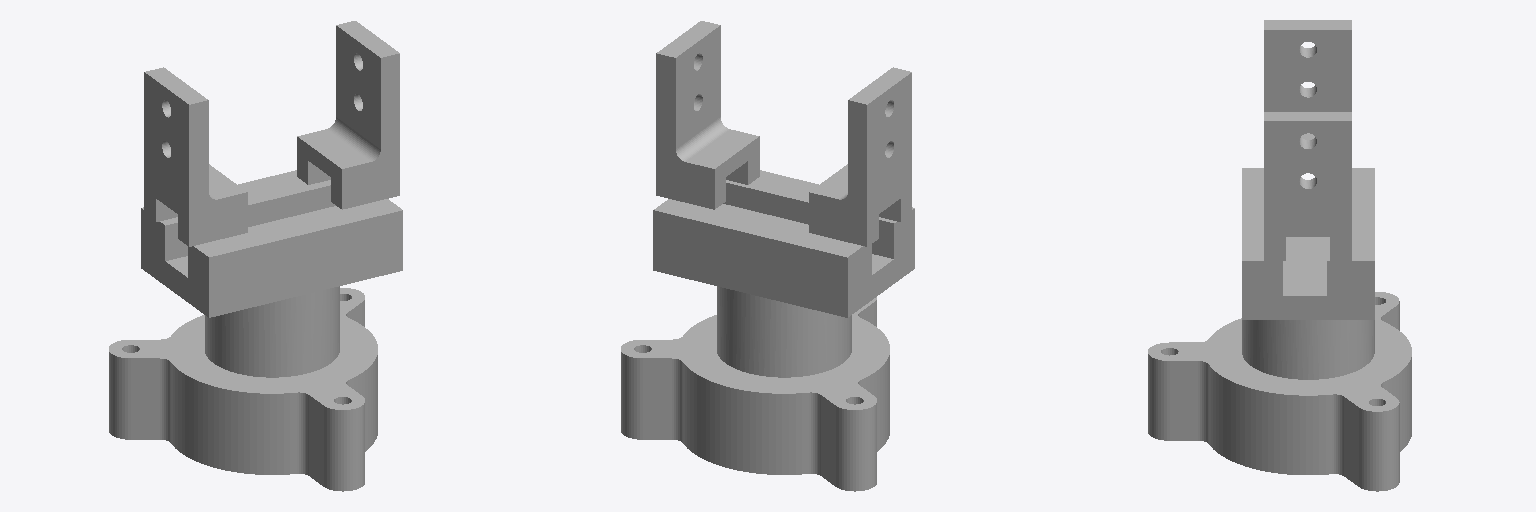
robot.urdf — abby_gripper:
<?xml version="1.0" ?>
<!-- =================================================================================== -->
<!-- |    This document was autogenerated by xacro from gripper.xacro                  | -->
<!-- |    EDITING THIS FILE BY HAND IS NOT RECOMMENDED                                 | -->
<!-- =================================================================================== -->
<robot name="abby_gripper" xmlns:xacro="http://ros.org/wiki/xacro">
  <link name="gripper_body">
    <visual>
      <geometry>
        <mesh filename="package://abby_description/meshes/gripper_body.stl" scale="0.0254 0.0254 0.0254"/>
      </geometry>
      <origin rpy="3.141592653 0 0" xyz="0 0 0.017"/>
      <material name="gripper:21_color">
        <color rgba="0.752941 0.752941 0.752941 1"/>
      </material>
    </visual>
    <inertial>
      <mass value="0.222800943405"/>
      <inertia ixx="0.000113884956016" ixy="0.0" ixz="0.0" iyy="0.000132512764251" iyz="-4.2661207134e-07" izz="9.078477651e-05"/>
      <origin rpy="3.141592653 0 0" xyz="0 0 0.013255"/>
    </inertial>
    <collision>
      <geometry>
        <box size="0.08 0.08 0.13"/>
        <!--cylinder radius="0.04" length="0.13" /-->
        <!--mesh filename="package://abby_description/meshes/gripper_body.stl" scale="0.0254 0.0254 0.0254"/-->
      </geometry>
      <origin rpy="0 0 0" xyz="0 0 0.065"/>
      <!--origin rpy="3.141592653 0 0" xyz="0 0 0.017"/-->
    </collision>
  </link>
  <link name="gripper_jaw_1">
    <visual>
      <geometry>
        <mesh filename="package://abby_description/meshes/gripper_jaw.stl" scale="0.0254 0.0254 0.0254"/>
      </geometry>
      <origin rpy="1.570796327 0 0" xyz="0 0.0127 0"/>
      <material name="gripper jaw:11_color">
        <color rgba="0.752941 0.752941 0.752941 1"/>
      </material>
    </visual>
    <inertial>
      <mass value="0.00921754126924"/>
      <inertia ixx="2.06132039615e-06" ixy="3.0409666492e-07" ixz="0.0" iyy="8.2195587923e-07" iyz="0.0" izz="1.7163745324e-06"/>
      <origin rpy="0 0 0" xyz="0.006162341 0.03123184 0.0127004023"/>
    </inertial>
    <collision>
      <geometry>
        <mesh filename="package://abby_description/meshes/gripper_jaw.stl" scale="0.0254 0.0254 0.0254"/>
      </geometry>
      <origin rpy="1.570796327 0 0" xyz="0 0.0127 0"/>
    </collision>
  </link>
  <link name="gripper_jaw_2">
    <visual>
      <geometry>
        <mesh filename="package://abby_description/meshes/gripper_jaw.stl" scale="0.0254 0.0254 0.0254"/>
      </geometry>
      <origin rpy="1.570796327 0 0" xyz="0 0.0127 0"/>
      <material name="gripper jaw:11_color">
        <color rgba="0.752941 0.752941 0.752941 1"/>
      </material>
    </visual>
    <inertial>
      <mass value="0.00921754126924"/>
      <inertia ixx="2.06132039615e-06" ixy="3.0409666492e-07" ixz="0.0" iyy="8.2195587923e-07" iyz="0.0" izz="1.7163745324e-06"/>
      <origin rpy="0 0 0" xyz="0.006162341 0.03123184 0.0127004023"/>
    </inertial>
    <collision>
      <geometry>
        <mesh filename="package://abby_description/meshes/gripper_jaw.stl" scale="0.0254 0.0254 0.0254"/>
      </geometry>
      <origin rpy="1.570796327 0 0" xyz="0 0.0127 0"/>
    </collision>
  </link>
  <joint name="gripper_jaw_1" type="prismatic">
    <parent link="gripper_body"/>
    <child link="gripper_jaw_1"/>
    <origin rpy="0 0 3.14159265359" xyz="0 0 0.062"/>
    <limit effort="1" lower="-0.039" upper="-0.03" velocity="1"/>
  </joint>
  <joint name="gripper_jaw_2" type="prismatic">
    <parent link="gripper_body"/>
    <child link="gripper_jaw_2"/>
    <origin rpy="0 0 0" xyz="0 0 0.062"/>
    <limit effort="1" lower="-0.039" upper="-0.03" velocity="1"/>
  </joint>
</robot>

--- What the picture shows (computed from the rendered views, not written in the file) ---
Views: 3 orthographic renders of the robot side by side, from view 1: azimuth 30°, elevation 25°; view 2: azimuth 150°, elevation 25°; view 3: azimuth 270°, elevation 25°.
Model abby_gripper with 3 links and 2 joints (2 prismatic), rooted at gripper_body, posed joints at zero except 2 at the middle of their limits (gripper_jaw_1 = -0.0345, gripper_jaw_2 = -0.0345).
Visible links, largest first — view 1: gripper_body, gripper_jaw_1, gripper_jaw_2; view 2: gripper_body, gripper_jaw_1, gripper_jaw_2; view 3: gripper_body, gripper_jaw_1, gripper_jaw_2.
Link boxes in pixels (x1=…): gripper_body: x1=109, y1=170, x2=402, y2=491; gripper_jaw_1: x1=297, y1=21, x2=399, y2=209; gripper_jaw_2: x1=144, y1=67, x2=247, y2=246; gripper_body: x1=621, y1=170, x2=914, y2=491; gripper_jaw_1: x1=656, y1=21, x2=759, y2=209; gripper_jaw_2: x1=809, y1=67, x2=911, y2=246; gripper_body: x1=1148, y1=168, x2=1411, y2=491; gripper_jaw_1: x1=1264, y1=112, x2=1351, y2=260; gripper_jaw_2: x1=1264, y1=20, x2=1351, y2=139.
Size in the robot's own frame: 0.082 by 0.0763 by 0.1148 metres.
3 mesh visuals loaded from 2 distinct referenced files (2 binary STL).
